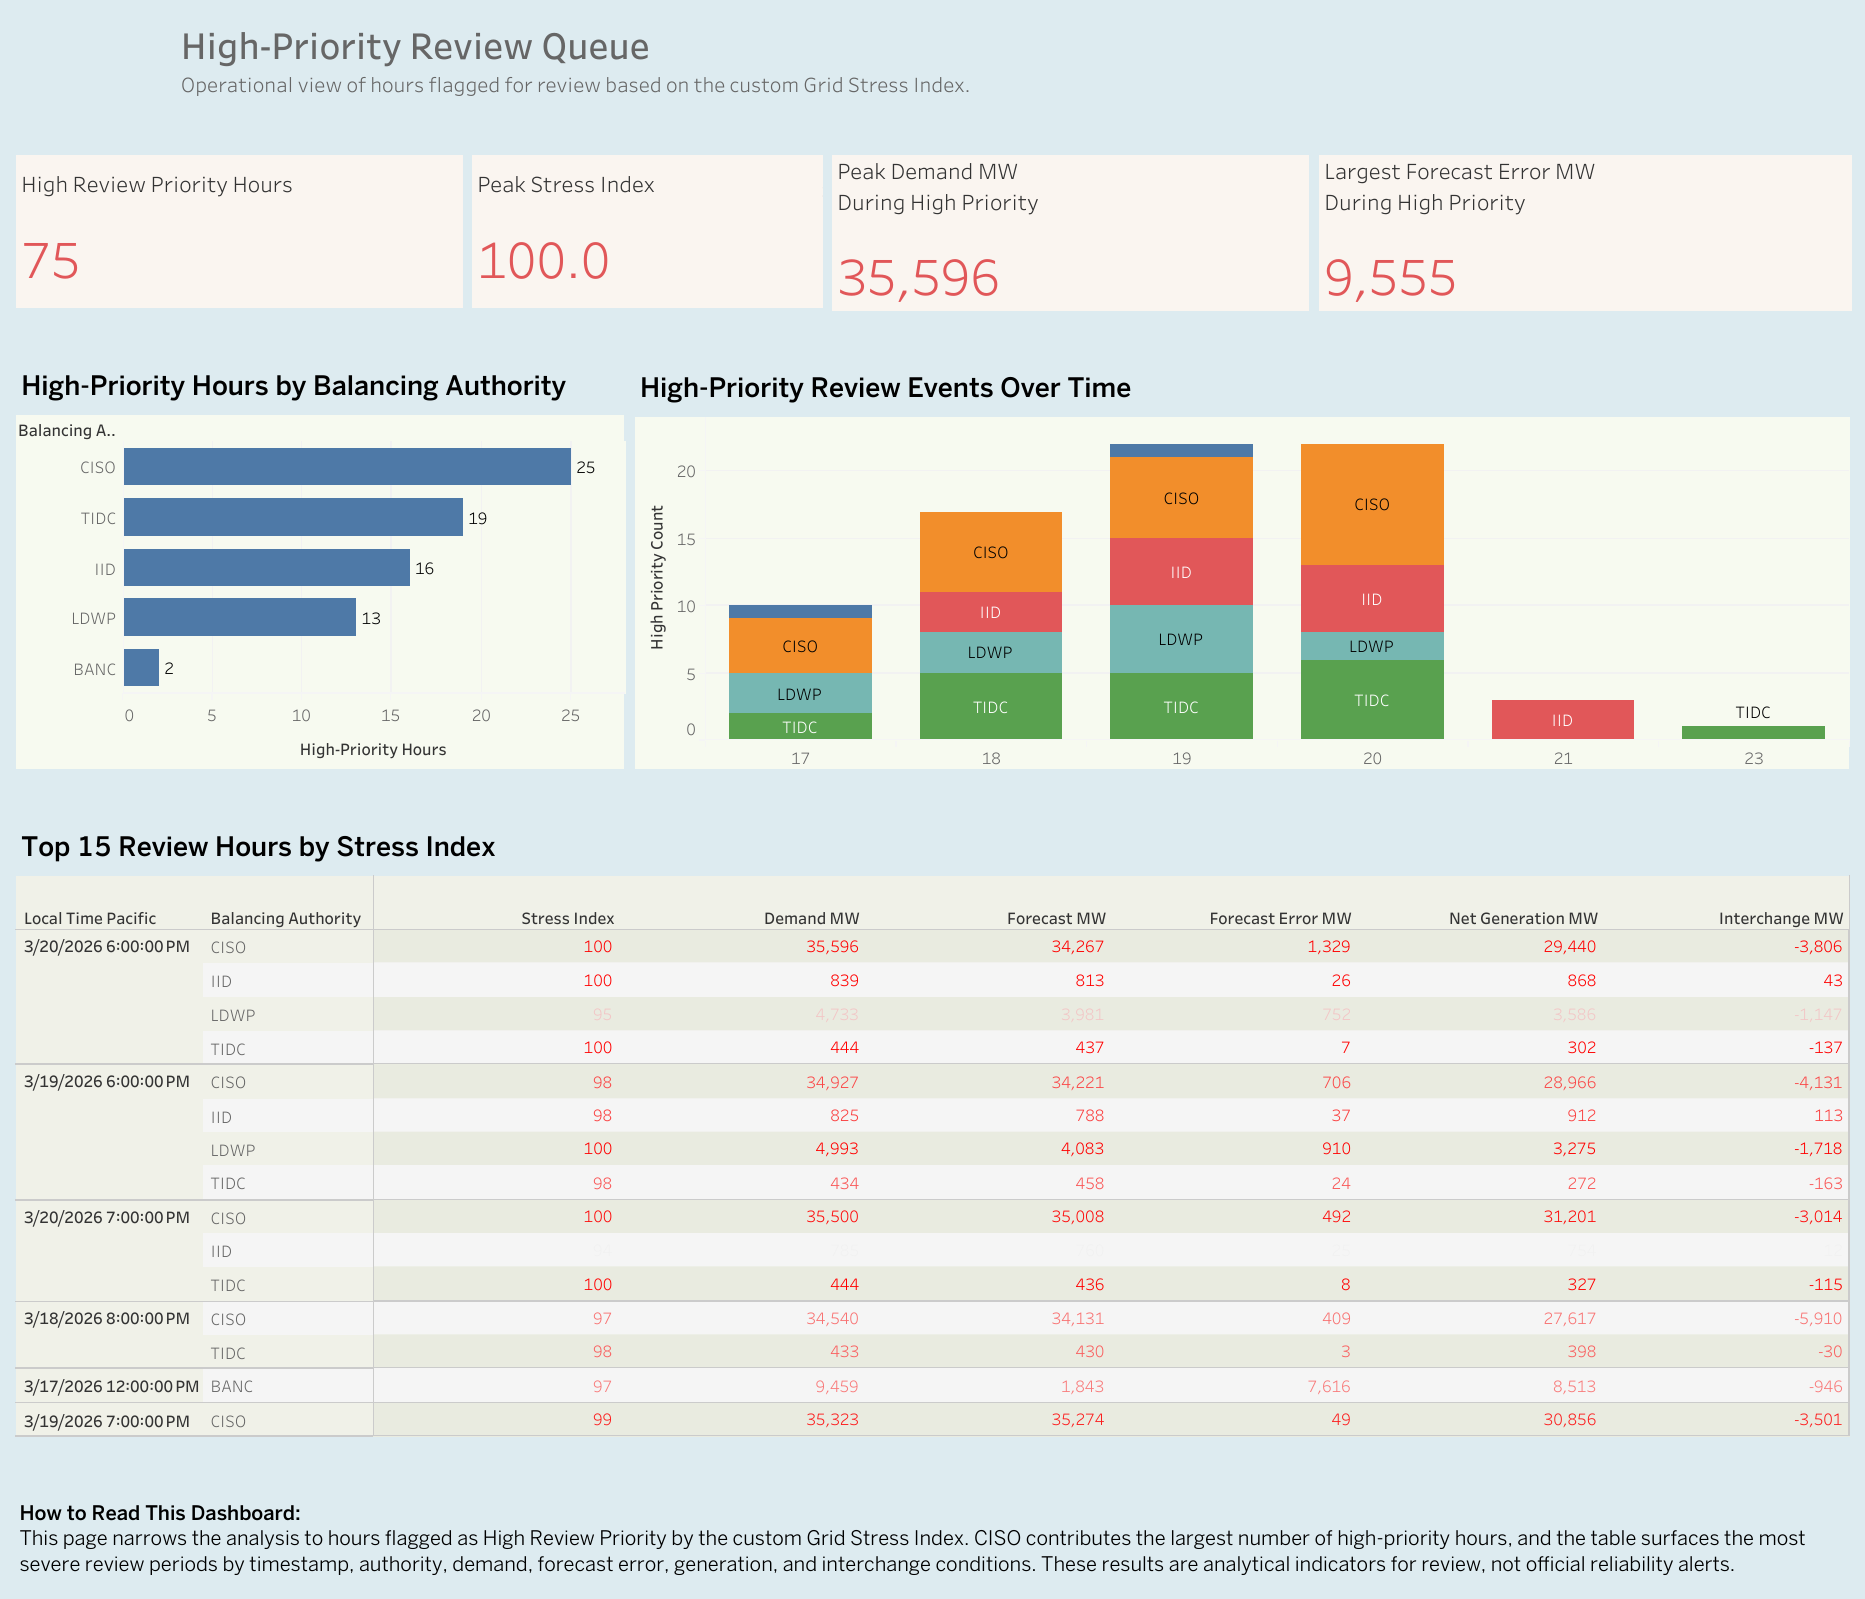

Layout of this report page (visuals, bound fields, positions):
{"tool":"tableau","page":{"name":"High-Priority Review Queue","canvas":[1000,1000],"units":"permille","ordinal":2},"visuals":[{"type":"blank","box":[5.7,6.7,86.4,59.3]},{"type":"text","box":[92.1,6.7,902.1,59.3]},{"type":"blank","box":[5.7,66,988.6,27.1]},{"type":"worksheet","title":"KPI 2.1 - High Review Priority Hours","mark":"Automatic","box":[5.7,93.1,244.3,103.4]},{"type":"worksheet","title":"KPI 2.2 - Peak Stress Index","mark":"Automatic","box":[250,93.1,192.9,103.4]},{"type":"worksheet","title":"KPI 2.3 - Peak Demand MW High Priority","mark":"Automatic","box":[442.9,93.1,260.7,103.4]},{"type":"worksheet","title":"KPI 2.4 - Largest Forecast Error MW","mark":"Automatic","box":[703.6,93.1,290.7,103.4]},{"type":"blank","box":[5.7,196.5,988.6,25.9]},{"type":"worksheet","title":"D2 - High Priority Hours by Authority","mark":"Automatic","rows":["balancing_authority"],"cols":["Calculation_2080618172174336"],"box":[5.7,222.4,331.4,261.9]},{"type":"worksheet","title":"D2 - High Priority Events Over Time","mark":"Bar","rows":["Calculation_2080618172174336"],"cols":["local_time_pacific"],"box":[337.1,222.4,657.1,261.9]},{"type":"blank","box":[5.7,484.3,988.6,26.2]},{"type":"worksheet","title":"D2 - Detailed Review Queue","mark":"Automatic","rows":["local_time_pacific","balancing_authority"],"box":[5.7,510.5,988.6,391.4]},{"type":"blank","box":[5.7,901.9,988.6,26.8]},{"type":"text","box":[5.7,928.8,988.6,64.5]}]}

Visuals, with their boxes on the dashboard's canvas, which has no fixed pixel size, in thousandths of its width and height (x1, y1, x2, y2). These are canvas units, not pixel positions in the 1865x1599 screenshot, which may show the page scaled, cropped or inside an application window:
blank: [6, 7, 92, 66]
text: [92, 7, 994, 66]
blank: [6, 66, 994, 93]
"KPI 2.1 - High Review Priority Hours" worksheet: [6, 93, 250, 196]
"KPI 2.2 - Peak Stress Index" worksheet: [250, 93, 443, 196]
"KPI 2.3 - Peak Demand MW High Priority" worksheet: [443, 93, 704, 196]
"KPI 2.4 - Largest Forecast Error MW" worksheet: [704, 93, 994, 196]
blank: [6, 196, 994, 222]
"D2 - High Priority Hours by Authority" worksheet: [6, 222, 337, 484]
"D2 - High Priority Events Over Time" worksheet (Bar marks): [337, 222, 994, 484]
blank: [6, 484, 994, 510]
"D2 - Detailed Review Queue" worksheet: [6, 510, 994, 902]
blank: [6, 902, 994, 929]
text: [6, 929, 994, 993]
